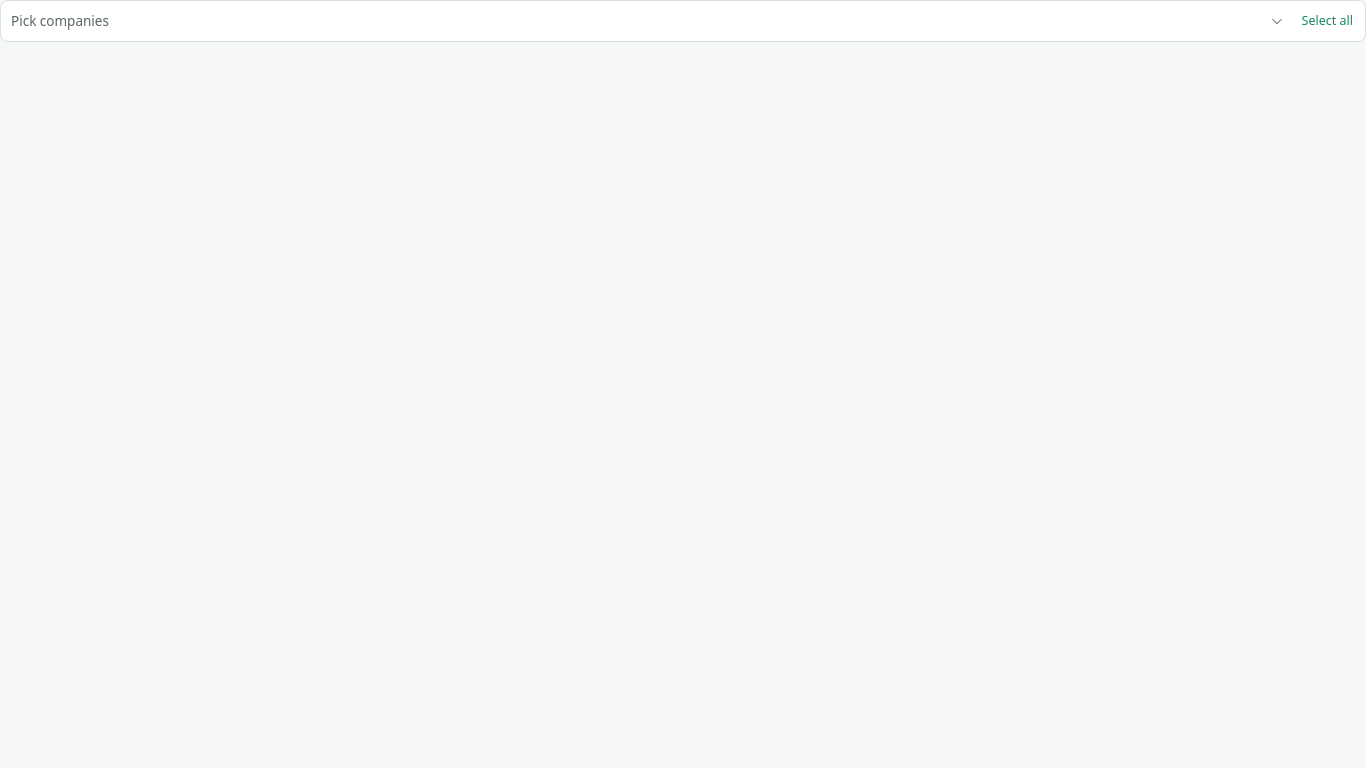
CompanyPicker › opens as a bottom sheet on a phone
Click the button "Pick companies" at (60, 21), box [5,5,1290,37]
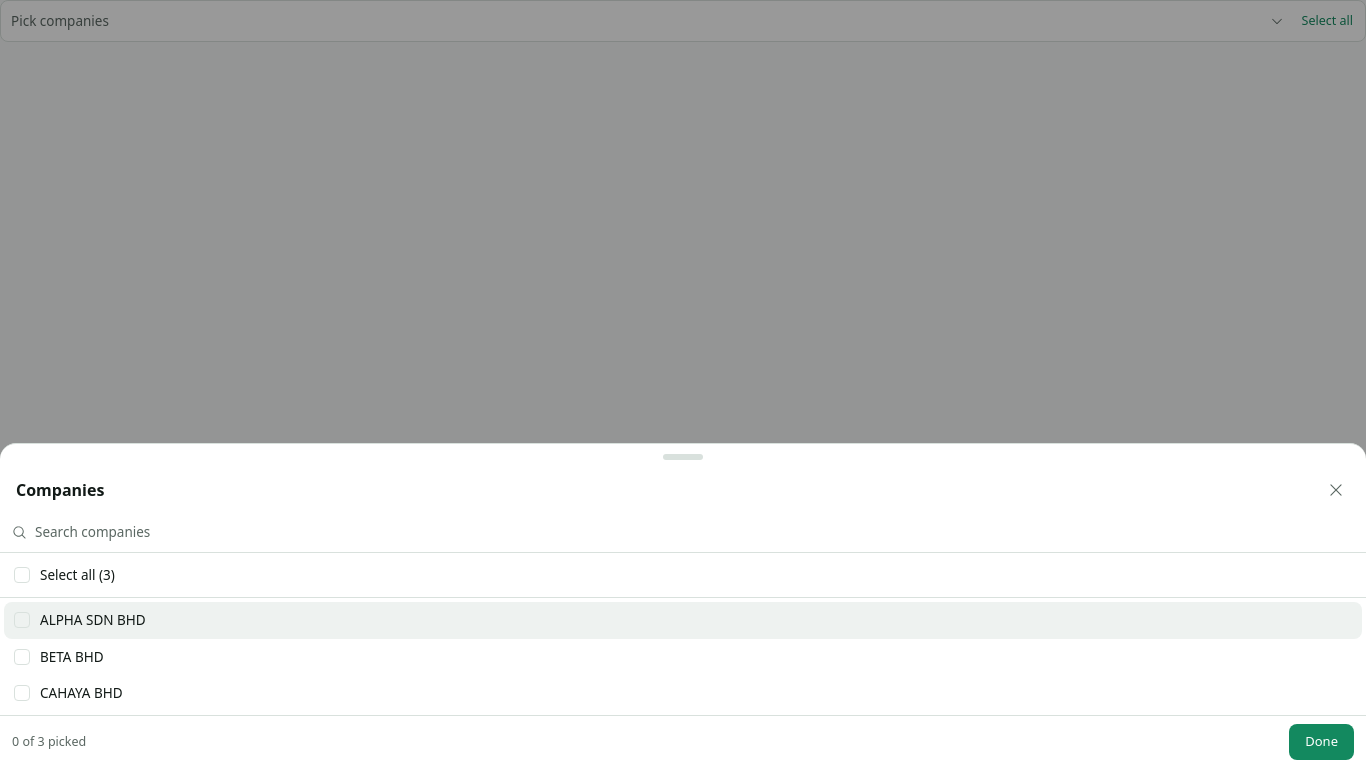
Now the dialog with test id "pick-sheet" is shown, box [0,443,1365,767]
